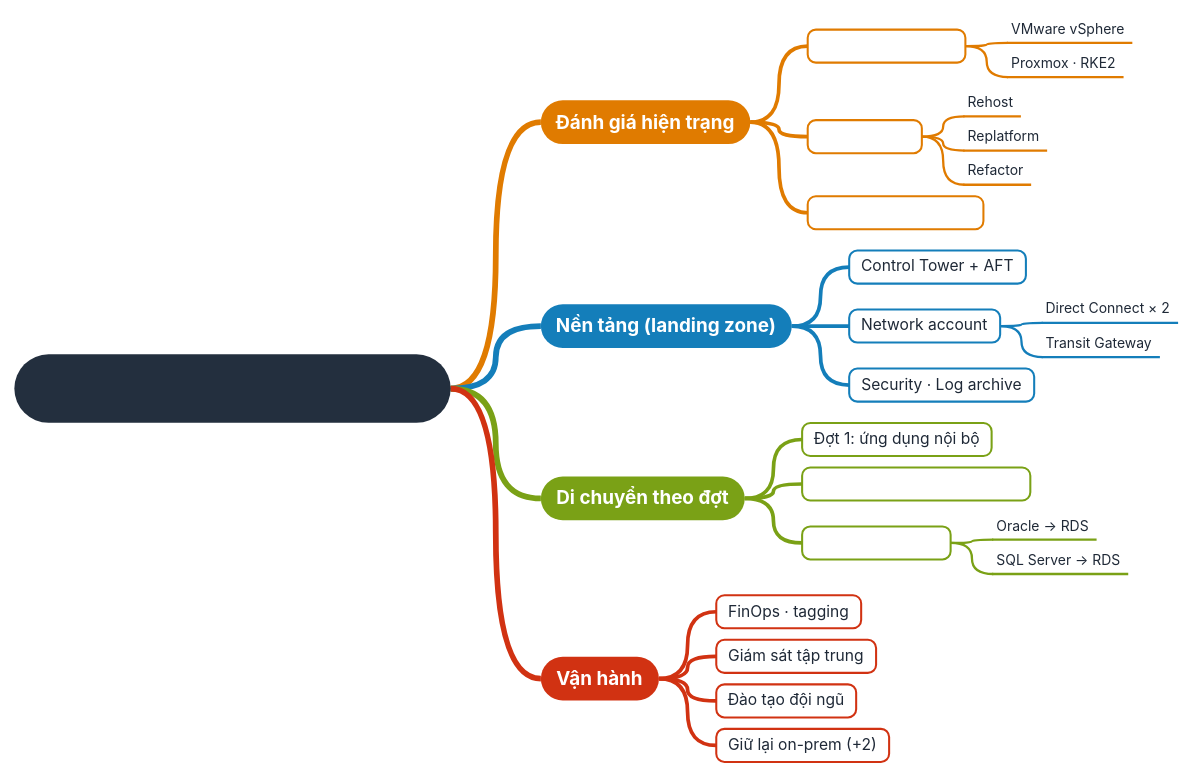
Image size: 1192x777. Some labels were removed from this diagram. The box of each missing label's shape, as (x1, y1, x2, y2) in pixels:
Kiểm kê ứng dụng: (806, 28, 966, 63)
Kế hoạch di chuyển lên AWS: (14, 354, 450, 422)
Phân loại 7R: (806, 119, 922, 154)
Đợt 2: hệ thống khách hàng: (801, 466, 1031, 501)
Đợt 3: dữ liệu lớn: (801, 525, 951, 560)
Ước tính chi phí TCO: (806, 195, 984, 230)
